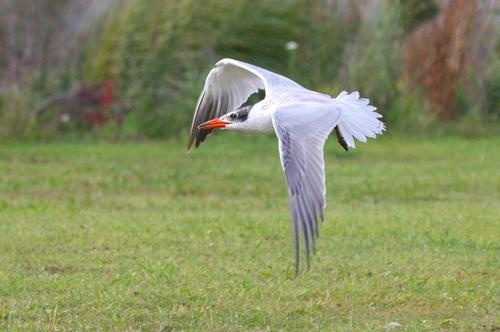bird: (184, 48, 387, 268)
